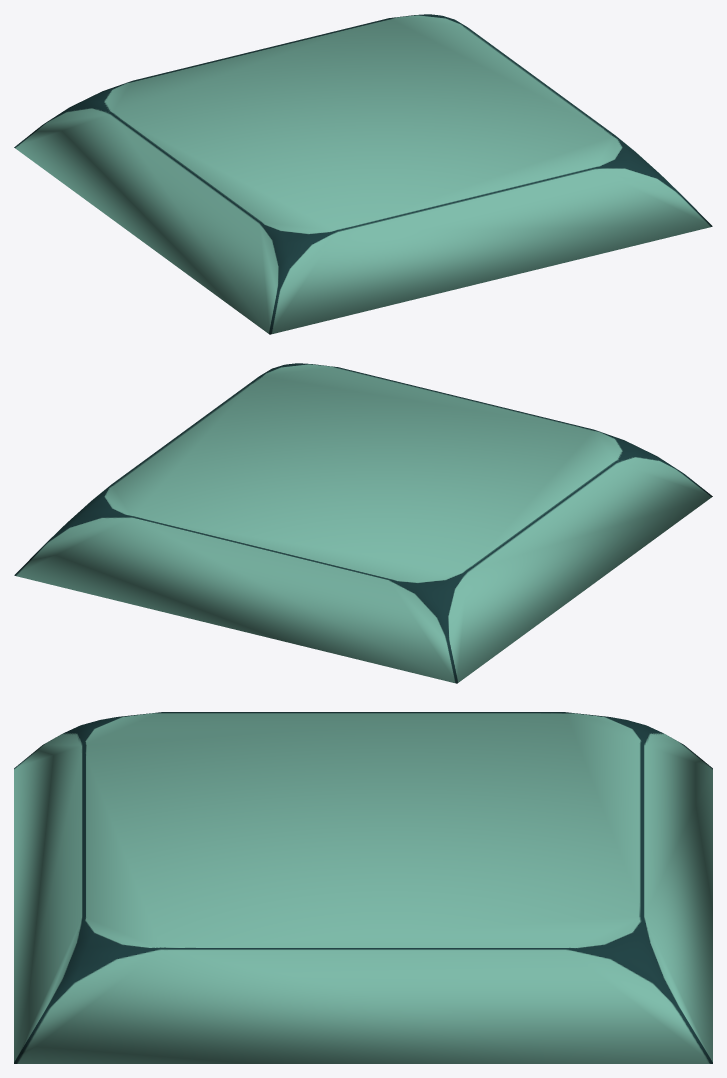
File: Building Debris 2.fbx
3 renders of one model, top to bottom at view 1: azimuth 30°, elevation 25°; view 2: azimuth 150°, elevation 25°; view 3: azimuth 270°, elevation 25°, orthographic. The views are drawn at different scales.
Parts seen in each view (by area): view 1: Cube.004; view 2: Cube.004; view 3: Cube.004.
Part boxes in pixels (<box>): Cube.004: <box>14,14,712,334</box>; Cube.004: <box>14,363,712,683</box>; Cube.004: <box>14,712,712,1063</box>.
Size of the model in its own units: 444 by 59.74 by 444.
